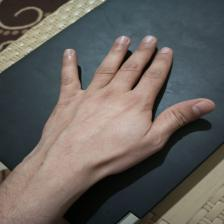five: (58, 34, 216, 156)
